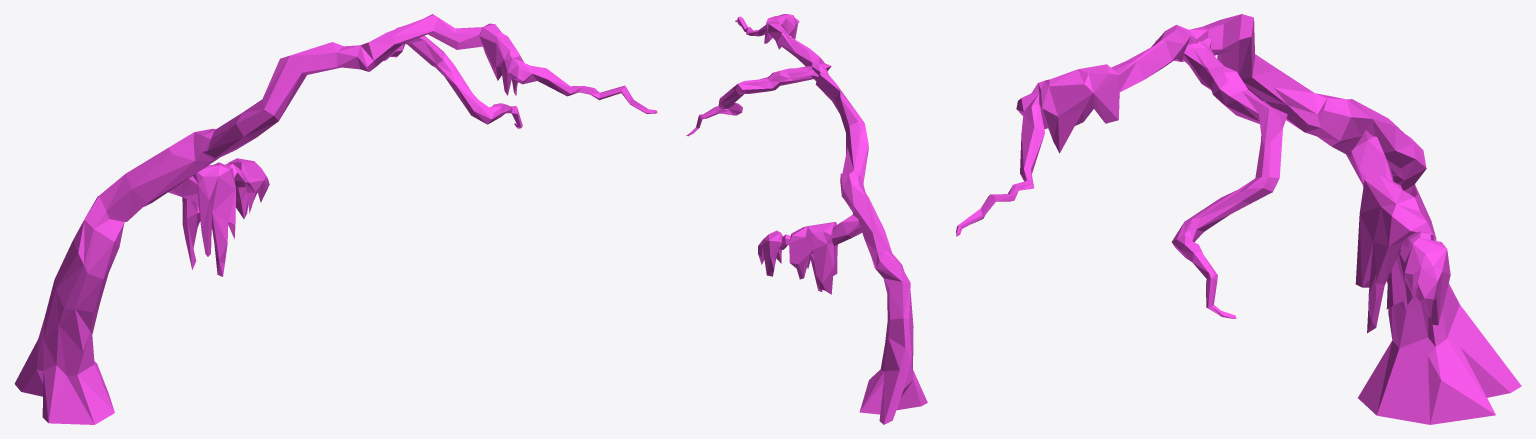
File: SM_Tree_Swamp_B_Fantasy.fbx
3 views of the same model, side by side, from view 1: azimuth 30°, elevation 25°; view 2: azimuth 150°, elevation 25°; view 3: azimuth 270°, elevation 25° (orthographic). The views are drawn at different scales.
Visible parts, largest first — view 1: SM_Tree_Swamp_B_Fantasy; view 2: SM_Tree_Swamp_B_Fantasy; view 3: SM_Tree_Swamp_B_Fantasy.
Boxes of the visible parts, x1,y1,x2,y2 form: SM_Tree_Swamp_B_Fantasy: (14,14,657,424); SM_Tree_Swamp_B_Fantasy: (686,14,927,424); SM_Tree_Swamp_B_Fantasy: (956,14,1521,424).
Bounding box in the file's own units: 6.44 × 5.55 × 5.39.
